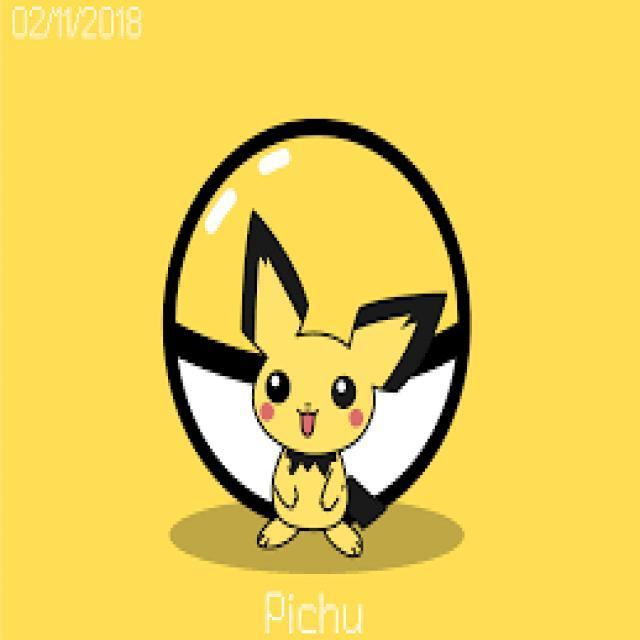pichu: (232, 212, 448, 561)
